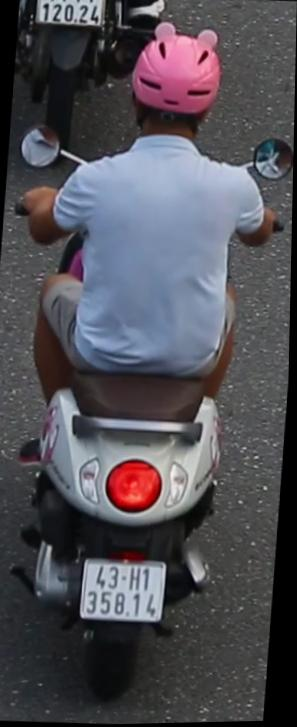LP: (75, 544, 178, 638)
helmet: (124, 15, 226, 134)
